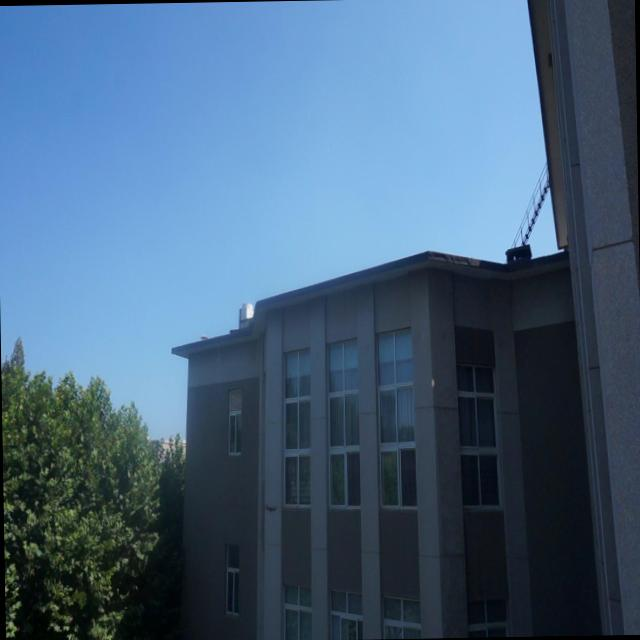drone: (261, 498, 281, 520)
